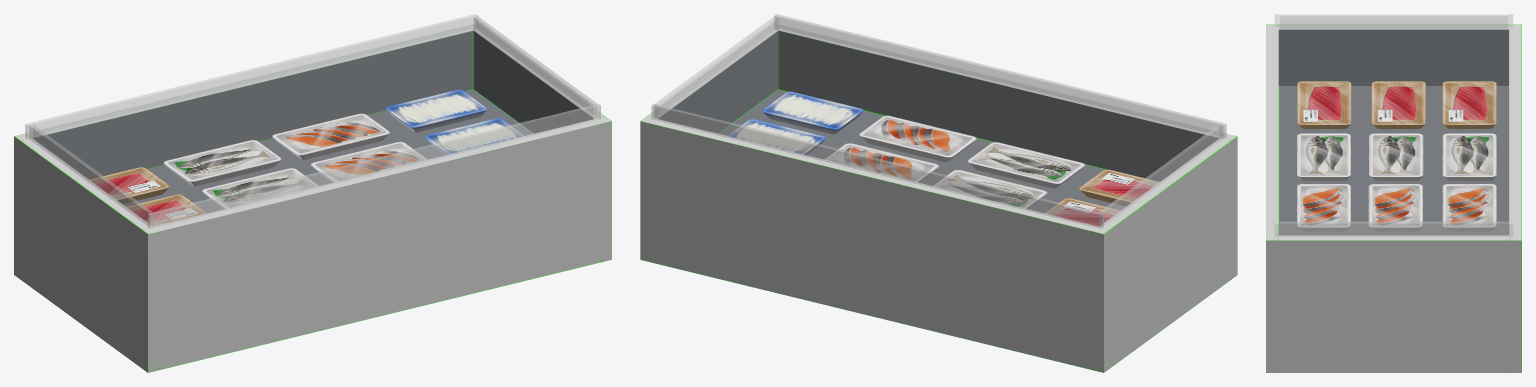
Rendered from shelf_fish.fbx.
3 renders of one model, left to right at view 1: azimuth 30°, elevation 25°; view 2: azimuth 150°, elevation 25°; view 3: azimuth 270°, elevation 25°, orthographic. The views are drawn at different scales.
Visible parts, largest first — view 1: shelf_fish; view 2: shelf_fish; view 3: shelf_fish.
Boxes of the visible parts, x1,y1,x2,y2 form: shelf_fish: (14, 14, 611, 372); shelf_fish: (640, 14, 1237, 372); shelf_fish: (1266, 14, 1521, 372).
Bounding box in the file's own units: 350 × 110 × 175.
6 materials, 5 textured.
